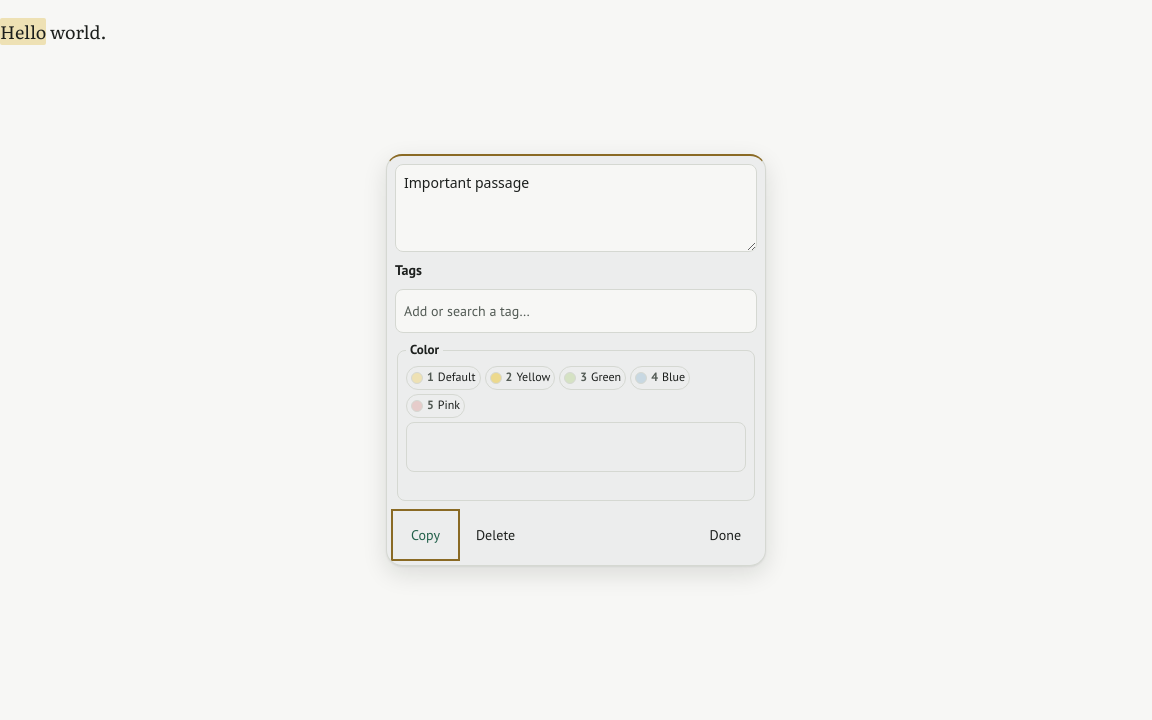
Test case: Unified annotation session › the tag field is always present beside the intact note; committing keeps focus in the field
Expected: the text box named "note" holds "Important passage", [395,164,757,252]
Type "philosophy" into the dropdown at coordinates (576, 311), box [395,289,757,333]
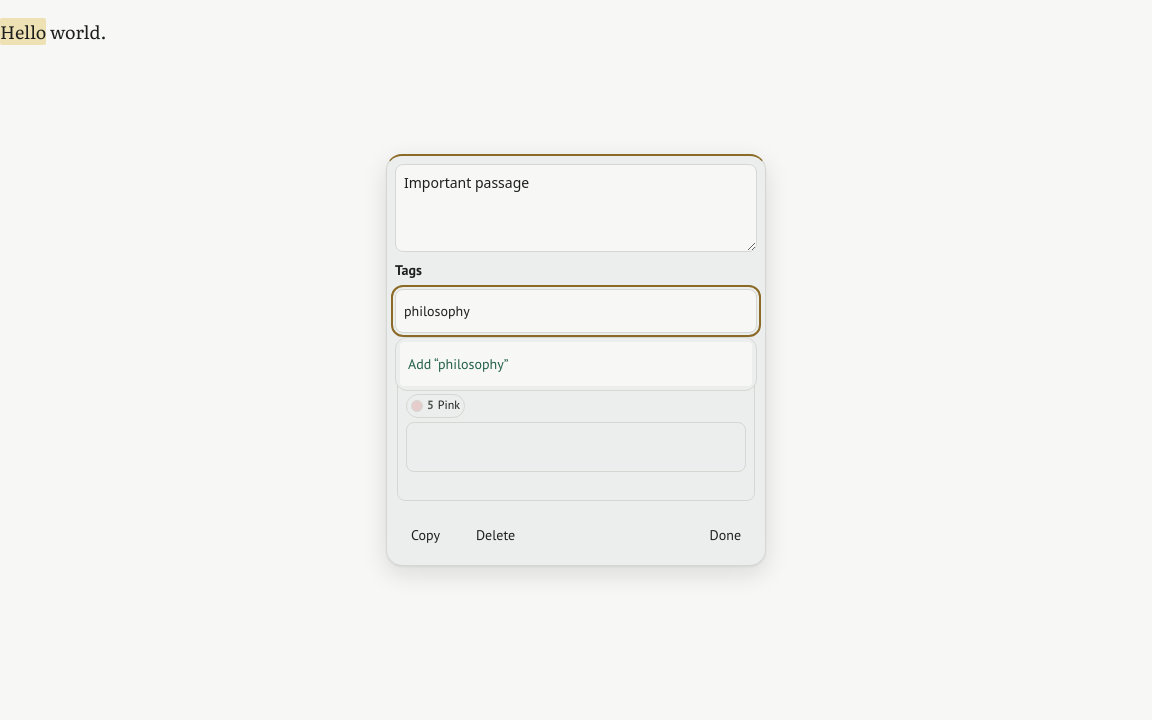
Press Enter
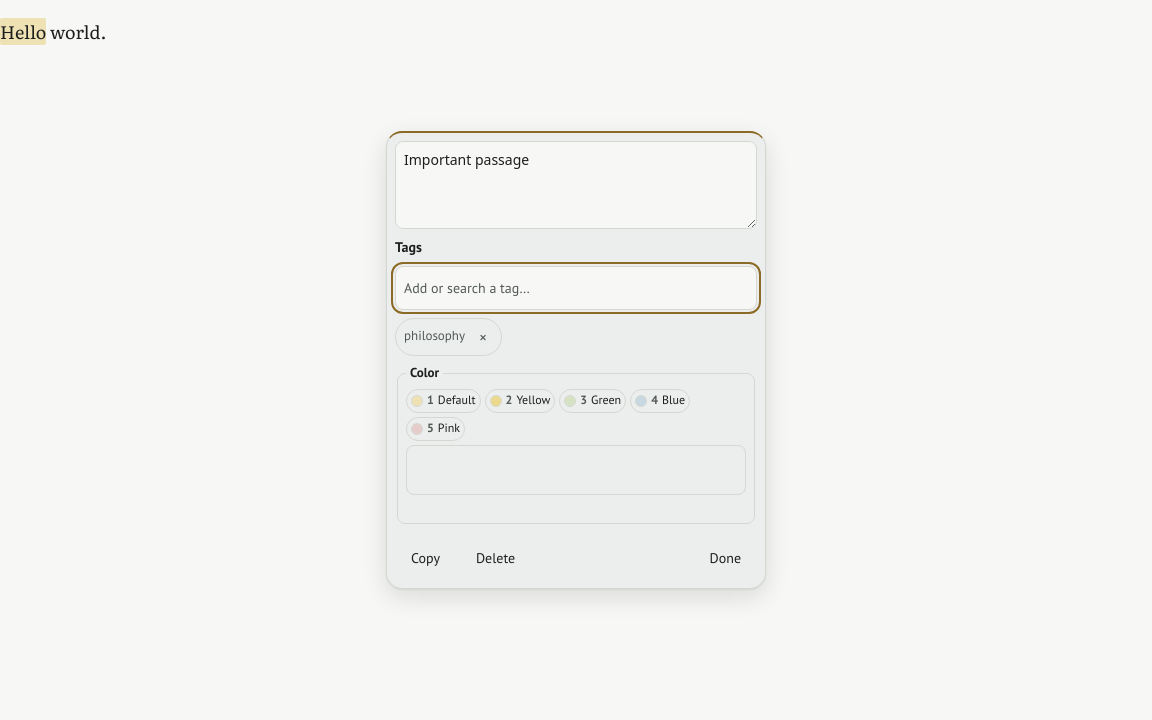
Expected: the text box named "note" holds "Important passage", [395,141,757,229]
Result: the button named "Remove tag philosophy" is shown at [465,319,501,355]
